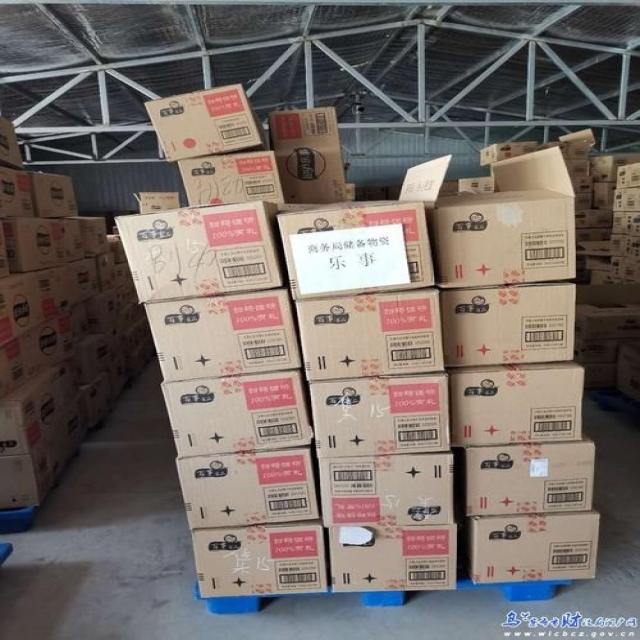box: (397, 146, 577, 289), (114, 200, 289, 302), (276, 201, 437, 300), (144, 289, 303, 382), (295, 287, 445, 379), (160, 368, 313, 457), (311, 369, 450, 458), (175, 445, 319, 529), (451, 435, 596, 517), (443, 362, 584, 446), (441, 281, 576, 367), (453, 510, 601, 584), (190, 519, 327, 598), (319, 453, 453, 528), (145, 84, 263, 161), (330, 522, 457, 592), (270, 107, 348, 204), (177, 151, 286, 208)
